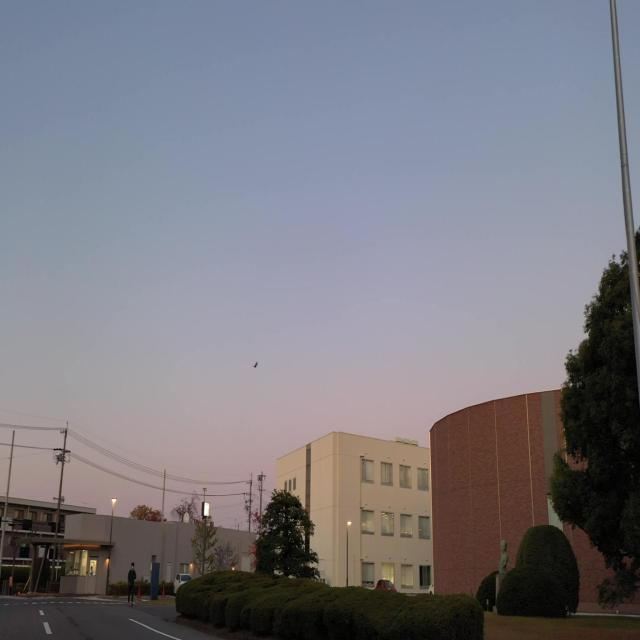Birds: (252, 360, 259, 370)
